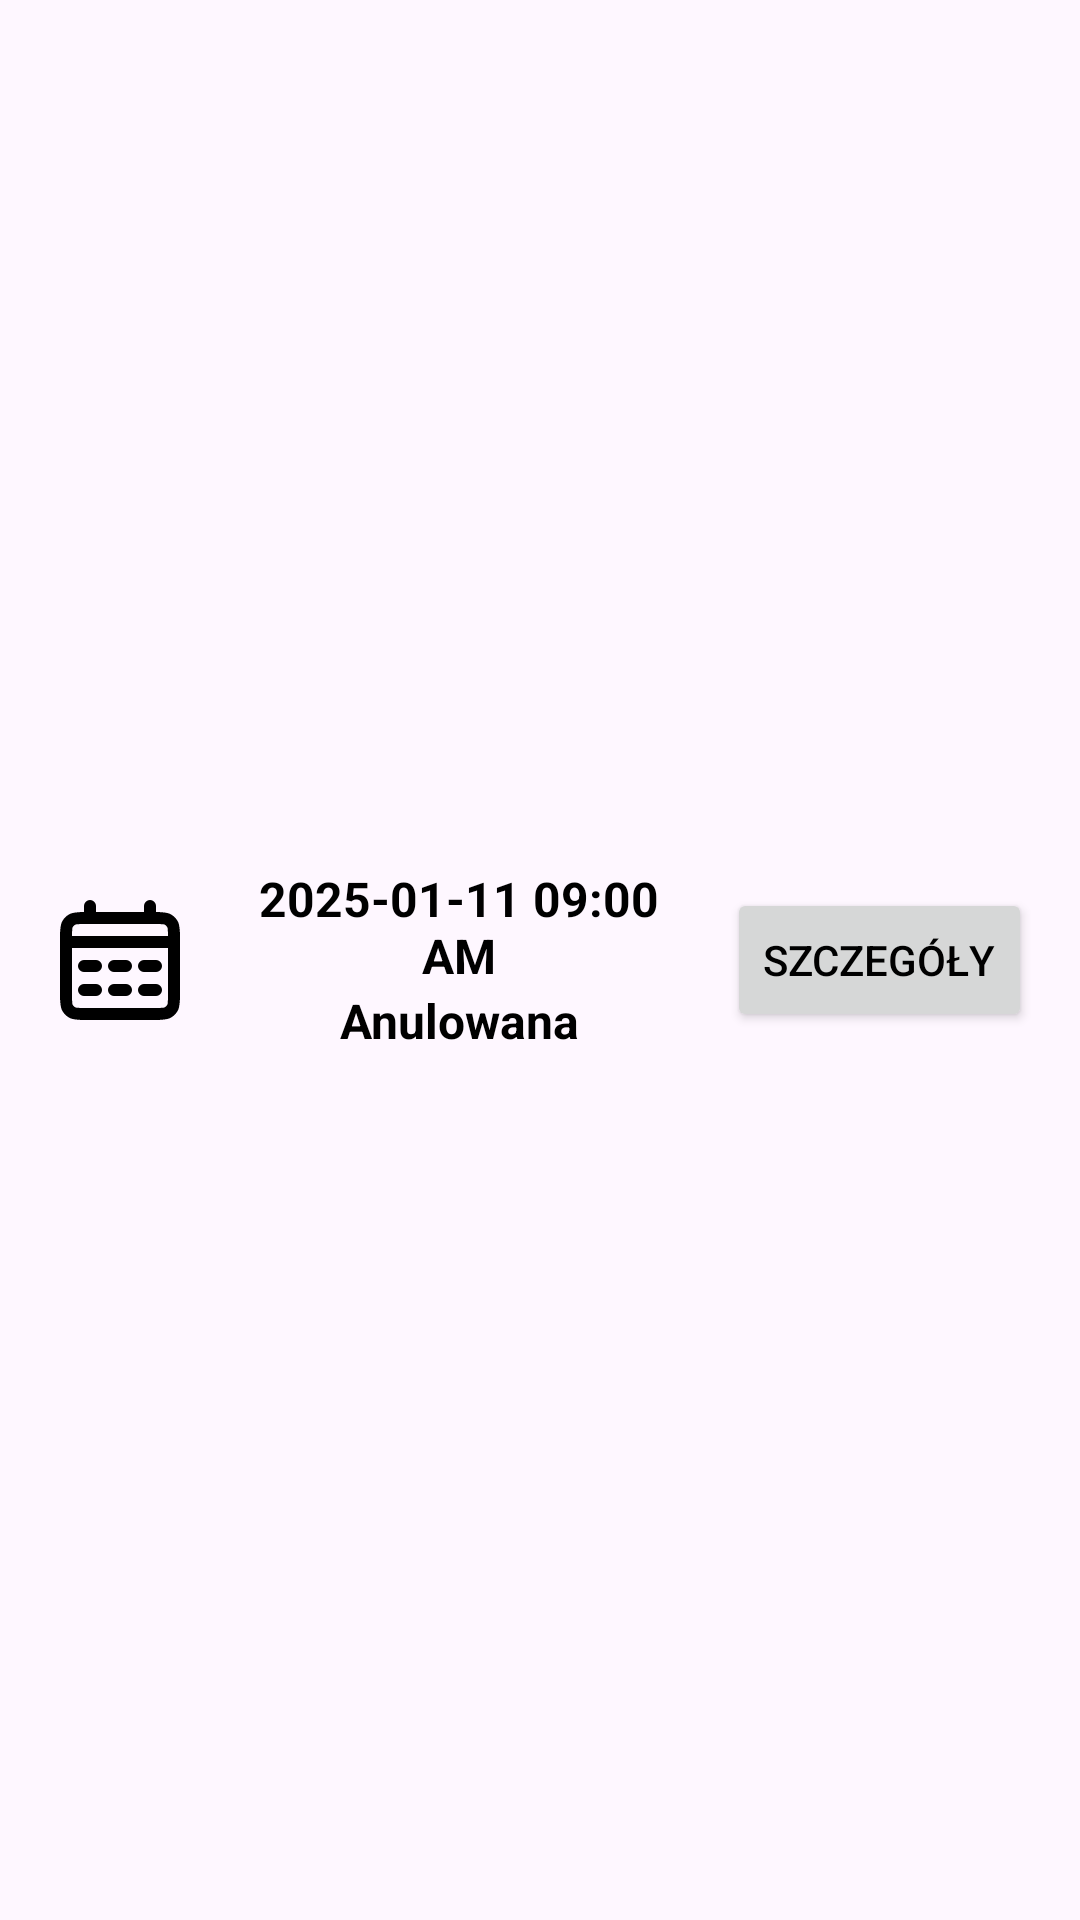

Named icons in this screenshot (1080w x 1920h) and their bounding boxes, (x1, y1, x2, y2):
calendar: (60, 900, 180, 1020)
